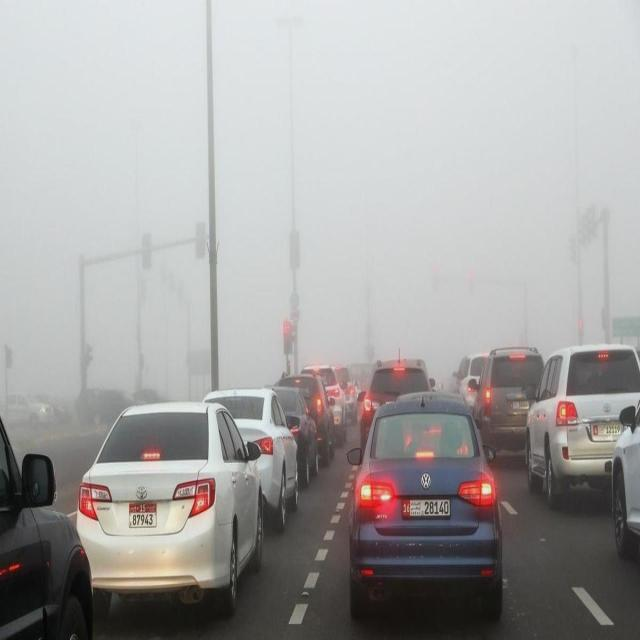Car: (75, 398, 265, 615), (342, 392, 505, 621), (0, 413, 98, 640), (522, 342, 640, 505), (201, 386, 300, 531), (467, 342, 550, 459), (356, 349, 433, 454), (279, 366, 335, 468), (269, 382, 320, 486), (610, 389, 640, 559), (297, 360, 350, 447), (6, 386, 52, 430), (452, 352, 489, 405), (332, 358, 358, 424)
